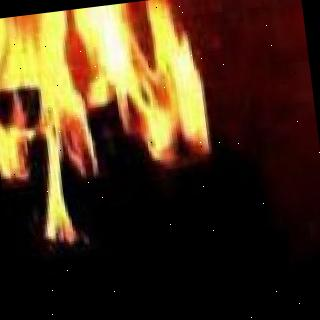fire: (0, 1, 161, 183)
